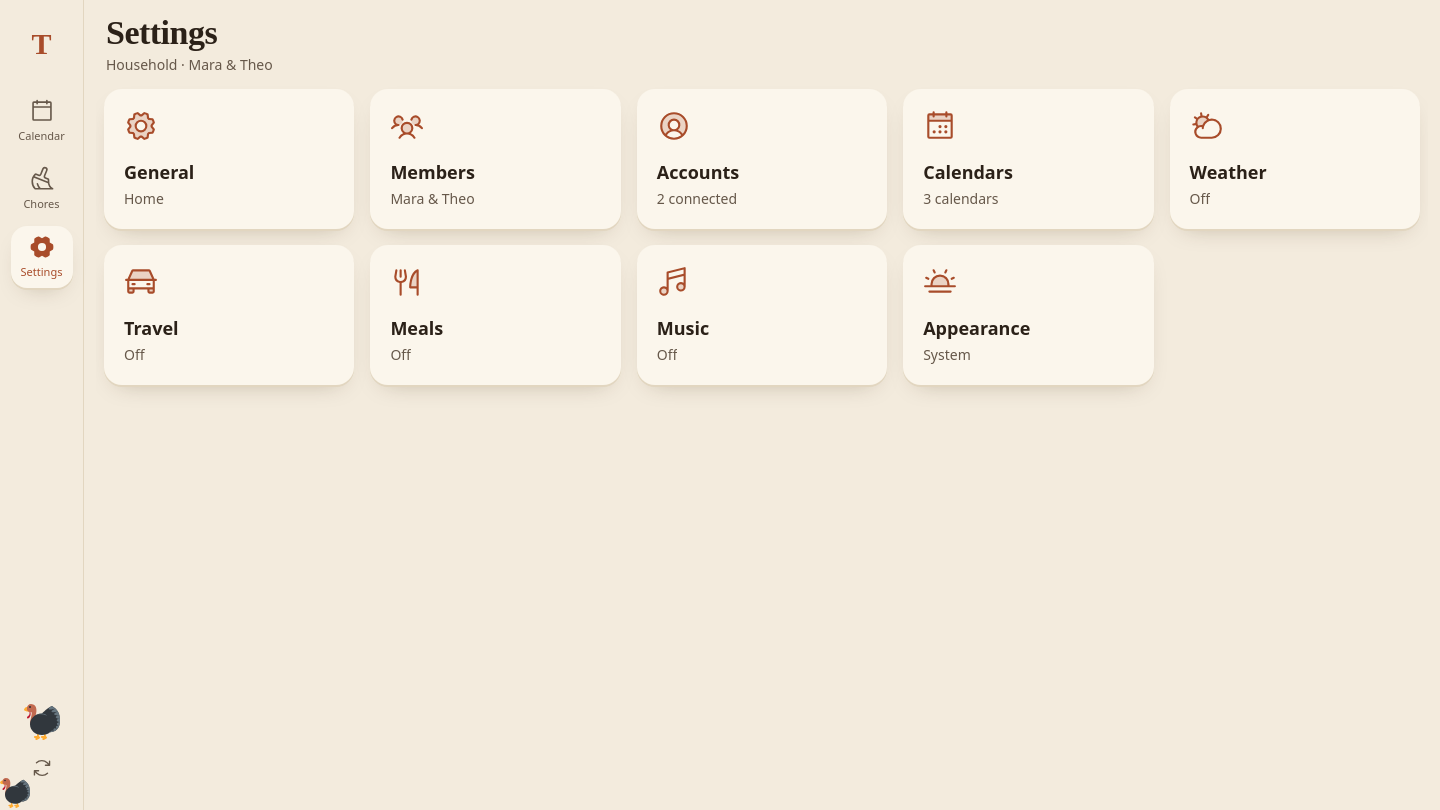
Scenario: Settings: accounts and calendars › offers per-member default write calendars (writable + enabled only)
This screenshot has width=1440, height=810.
Click the button "Calendars 3 calendars".
click(1028, 159)  # box [903,89,1154,229]
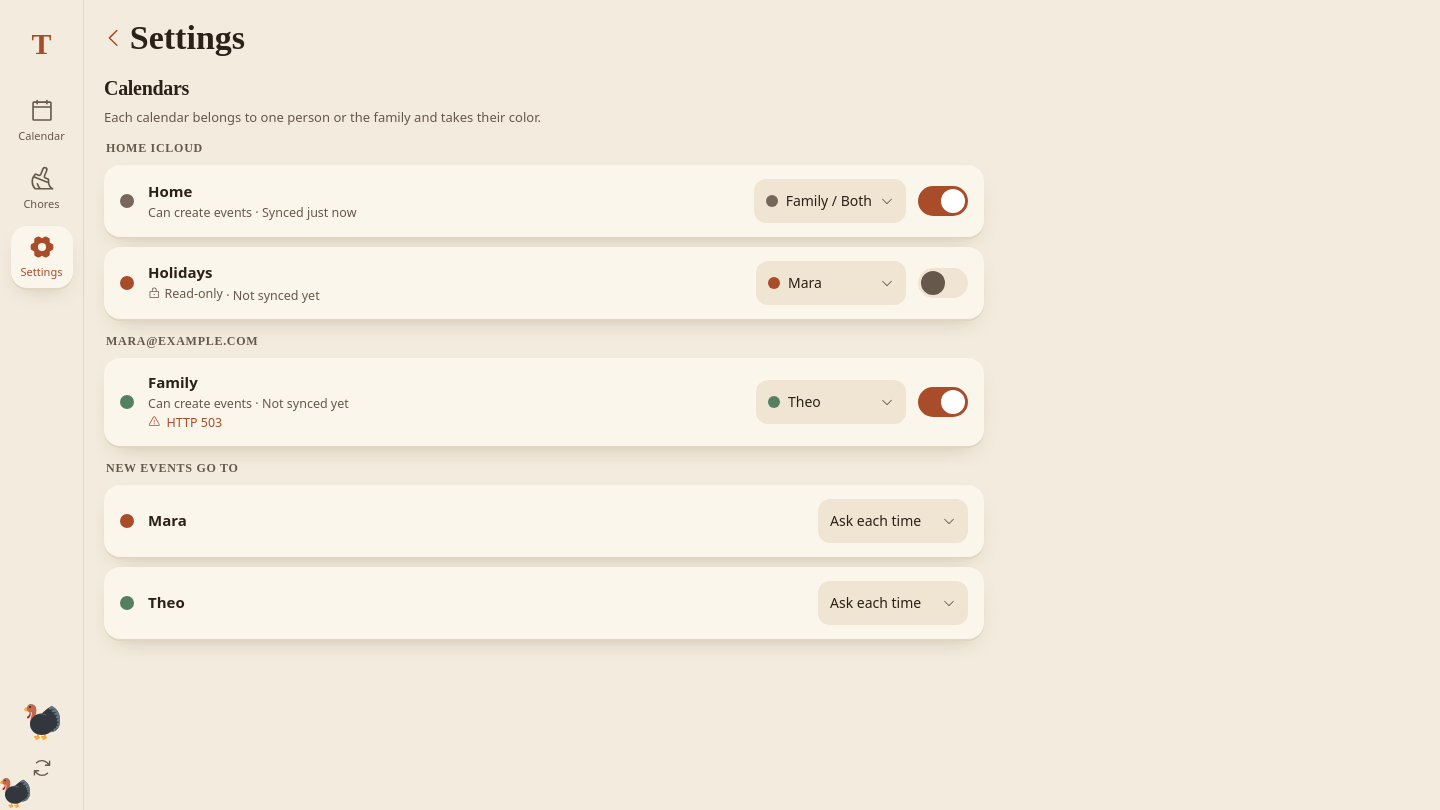
Now the dropdown named "Default calendar for Mara" reads "Ask each time", box [818,499,968,543]
Now the dropdown named "Default calendar for Theo" is shown, box [818,581,968,625]
